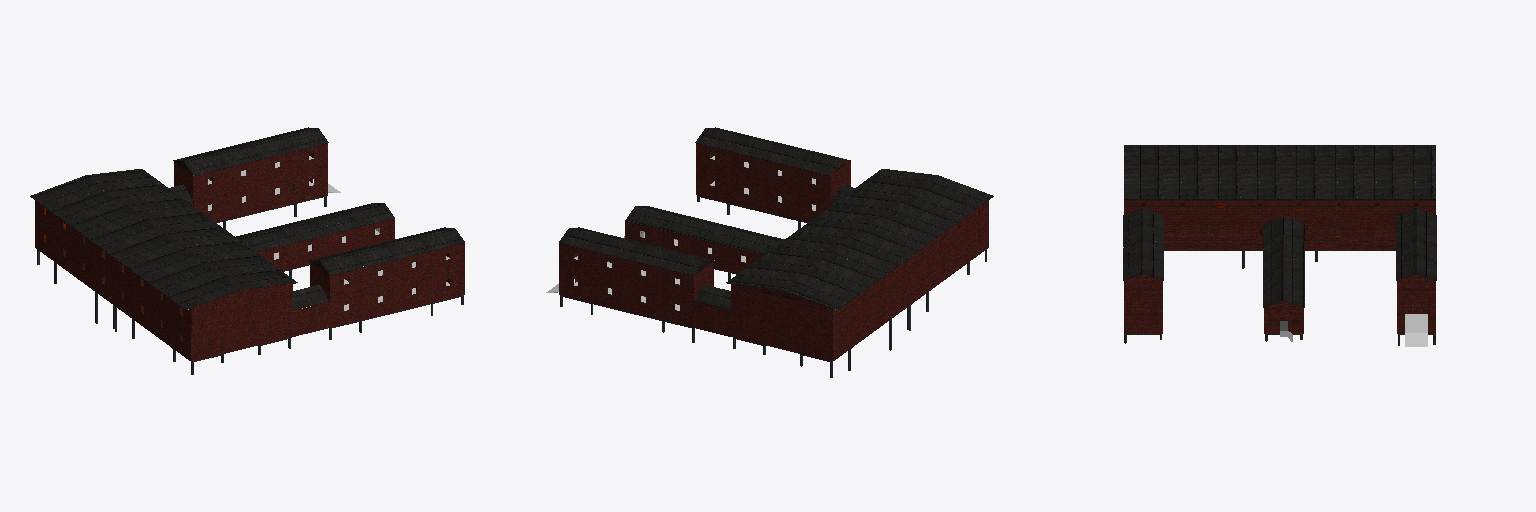
3 views of the same model, side by side, from view 1: azimuth 30°, elevation 25°; view 2: azimuth 150°, elevation 25°; view 3: azimuth 270°, elevation 25° (orthographic).
Visible parts, largest first — view 1: estrucutra_Plane.029; view 2: estrucutra_Plane.029; view 3: estrucutra_Plane.029.
Boxes of the visible parts, x1,y1,x2,y2 form: estrucutra_Plane.029: [30, 127, 464, 374]; estrucutra_Plane.029: [546, 127, 993, 377]; estrucutra_Plane.029: [1123, 145, 1436, 346].
Size of the model in its own units: 438 by 130 by 404.
Materials: 101 (11 with a texture image).